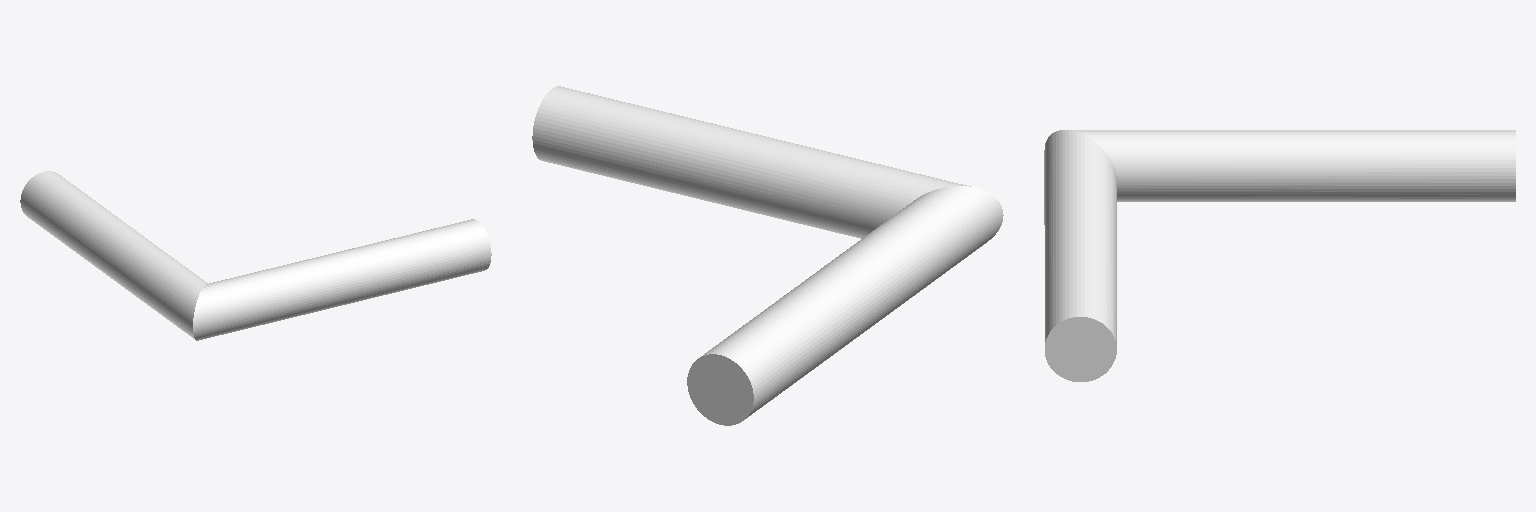
The robot description file, URDF, robot "EndEffector":
<?xml version="1.0"?>
<robot name="EndEffector">

  <material name="white">
      <color rgba="1 1 1 1"/>
  </material>

  <link name="base_link">
    <inertial>
      <mass value="0.0001"/>
      <origin xyz="0.0 0.0 0.0"/>
      <inertia ixx="1e-10" ixy="0." ixz="0." iyy="1e-10" iyz="0." izz="1e-10"/>
    </inertial>
  </link>

  <link name="base_x_link">
    <inertial>
      <mass value="0.0001"/>
      <origin xyz="0.0 0.0 0.0"/>
      <inertia ixx="1e-10" ixy="0." ixz="0." iyy="1e-10" iyz="0." izz="1e-10"/>
    </inertial>
  </link>

  <link name="base_y_link">
    <inertial>
      <mass value="0.0001"/>
      <origin xyz="0.0 0.0 0.0"/>
      <inertia ixx="1e-10" ixy="0." ixz="0." iyy="1e-10" iyz="0." izz="1e-10"/>
    </inertial>
  </link>

  <link name="eef_link">
    <inertial>
      <mass value="0.032"/>
      <origin xyz="55.729e-3 55.728e-3 0.0"/>
      <inertia ixx="5173.902e-6" ixy="2886.877e-6" ixz="-2.704e-10" iyy="5173.846e-6" iyz="4.671e-10" izz="10057.277e-6"/>
    </inertial>
    <contact>
      <lateral_friction value="0.1"/>
      <!-- <rolling_friction value="0.001"/> -->
      <!-- <stiffness value="30000"/> -->
      <!-- <damping value="1000"/> -->
    </contact>
    <visual>
      <origin rpy="0 0 0" xyz="0 0 0"/>
      <geometry>
        <mesh filename="mesh/right_angle_eef.obj"/>
      </geometry>
      <material name="white"/>
    </visual>

    <collision>
      <origin rpy="0 0 0" xyz="0 0 0"/>
      <geometry>
        <mesh filename="mesh/right_angle_eef_vhacd.obj"/>
      </geometry>
    </collision>
  </link>

  <joint name="joint_basex" type="prismatic">
    <axis xyz="1 0 0"/>
    <parent link="base_link"/>
    <child link="base_x_link"/>
    <limit lower="-100" upper="100"/>
  </joint>

  <joint name="joint_basey" type="prismatic">
    <axis xyz="0 1 0"/>
    <parent link="base_x_link"/>
    <child link="base_y_link"/>
    <limit lower="-100" upper="100"/>
  </joint>

  <joint name="joint_basez" type="prismatic">
    <axis xyz="0 0 1"/>
    <parent link="base_y_link"/>
    <child link="eef_link"/>
    <limit lower="0." upper="5"/>
  </joint>

</robot>

--- Render facts (derived) ---
Views: 3 orthographic renders of the robot side by side, from view 1: azimuth 30°, elevation 25°; view 2: azimuth 150°, elevation 25°; view 3: azimuth 270°, elevation 25°.
Robot: EndEffector — 4 links, 3 joints (3 prismatic); root link base_link; default pose: all joints at 0.
Links seen in each view (by area): view 1: eef_link; view 2: eef_link; view 3: eef_link.
Link boxes in pixels (bbox=[...]): eef_link: bbox=[20, 171, 491, 340]; eef_link: bbox=[532, 86, 1003, 425]; eef_link: bbox=[1044, 130, 1515, 381].
Size in the robot's own frame: 0.325 by 0.325 by 0.05 metres.
Meshes: 1 distinct files referenced, 1 mesh visuals loaded (1 OBJ).